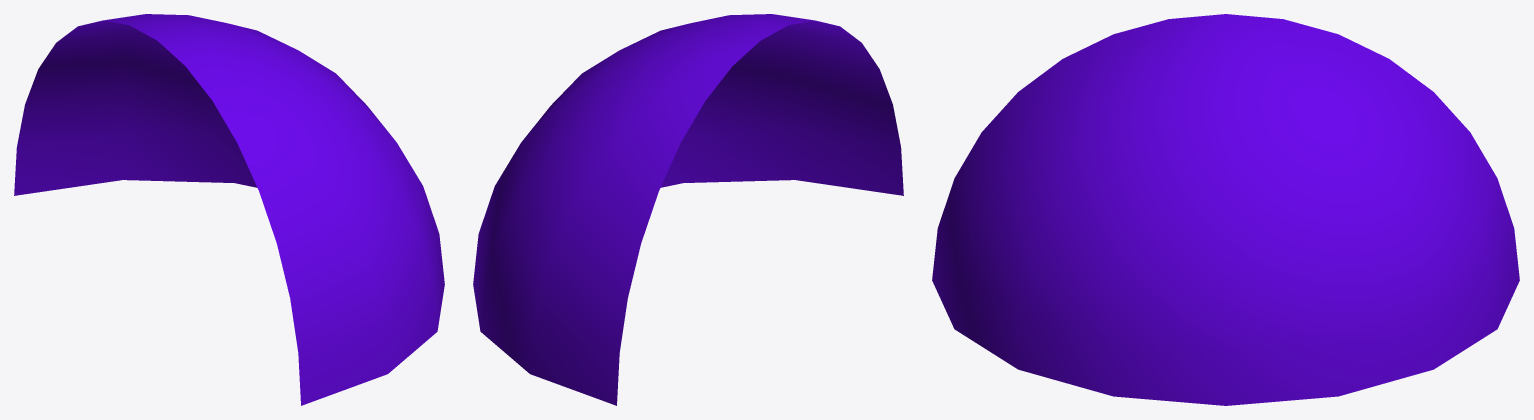
The model's file is Cupola_A.fbx.
3 views of the same model, side by side, from view 1: azimuth 30°, elevation 25°; view 2: azimuth 150°, elevation 25°; view 3: azimuth 270°, elevation 25° (orthographic). The views are drawn at different scales.
Parts seen in each view (by area): view 1: Cupola_A; view 2: Cupola_A; view 3: Cupola_A.
Part boxes in pixels (left/top/right/bottom): Cupola_A: left=14, top=14, right=444, bottom=405; Cupola_A: left=473, top=14, right=903, bottom=405; Cupola_A: left=932, top=14, right=1519, bottom=405.
Size of the model in its own units: 263 by 260 by 521.
